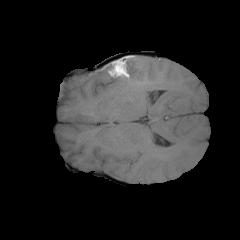glioma: (91, 55, 158, 99)
